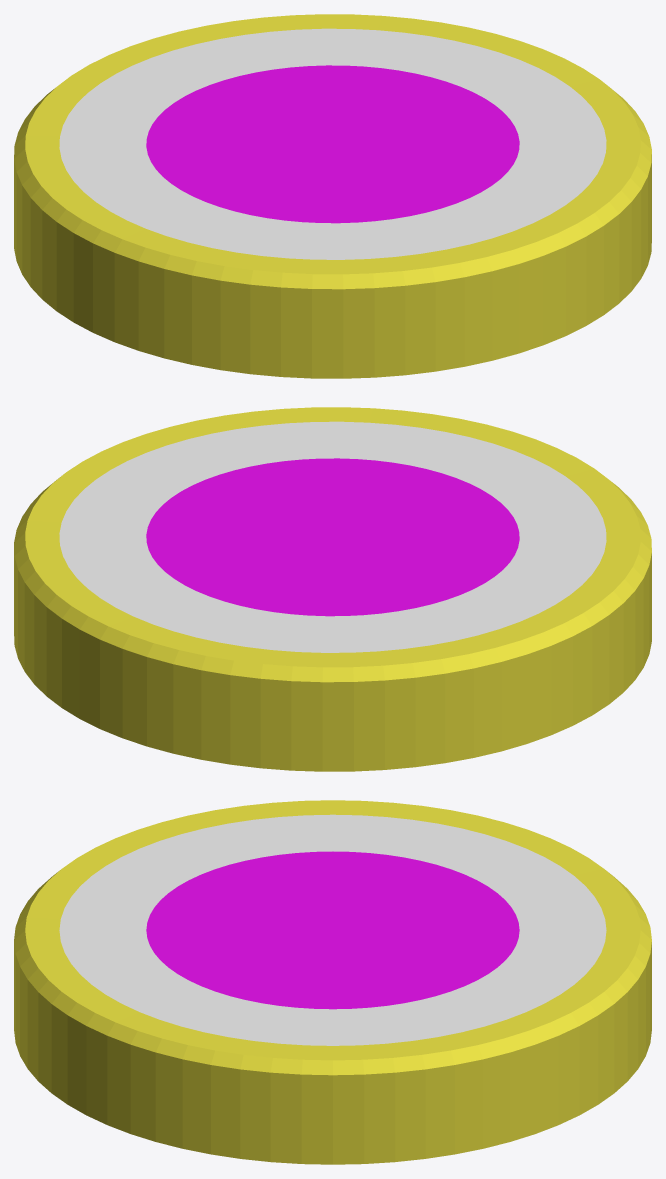
File: player-base-button.fbx
3 views of the same model, one above another, from view 1: azimuth 30°, elevation 25°; view 2: azimuth 150°, elevation 25°; view 3: azimuth 270°, elevation 25° (orthographic).
Visible parts, largest first — view 1: Push; view 2: Push; view 3: Push.
Part boxes in pixels (x1=…): Push: x1=14, y1=14, x2=651, y2=378; Push: x1=14, y1=407, x2=651, y2=771; Push: x1=14, y1=800, x2=651, y2=1164.
Size of the model in its own units: 360 by 62.02 by 360.
